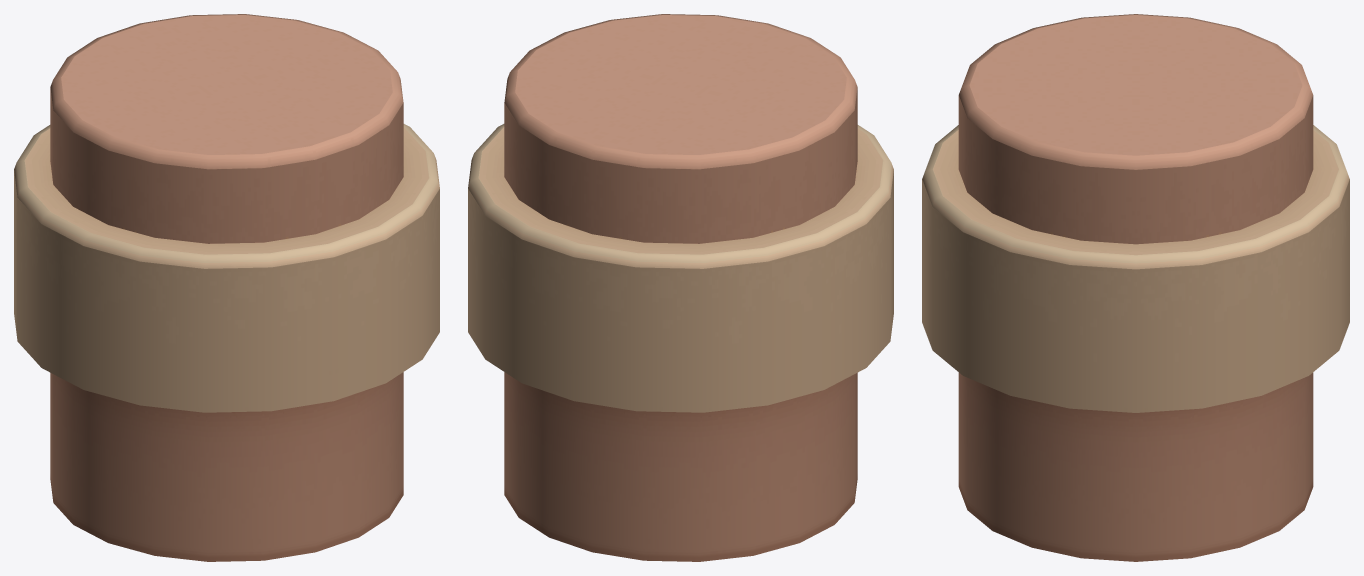
Rendered from Props.fbx.
3 views of the same model, side by side, from view 1: azimuth 30°, elevation 25°; view 2: azimuth 150°, elevation 25°; view 3: azimuth 270°, elevation 25° (orthographic).
Parts seen in each view (by area): view 1: Cylinder; view 2: Cylinder; view 3: Cylinder.
Part boxes in pixels (x1=…): Cylinder: x1=14, y1=14, x2=439, y2=561; Cylinder: x1=468, y1=14, x2=893, y2=561; Cylinder: x1=922, y1=14, x2=1349, y2=561.
Bounding box in the file's own units: 4.82 × 5 × 4.82.
Materials: 1 (1 with a texture image).
